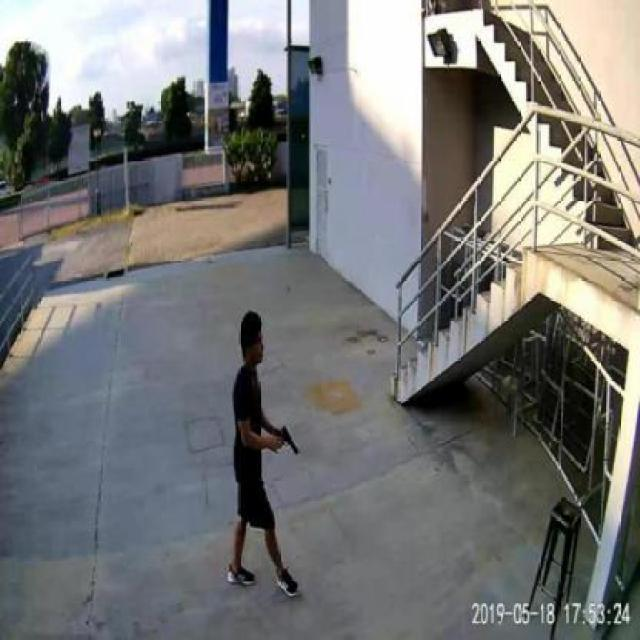gun: (276, 420, 298, 454)
